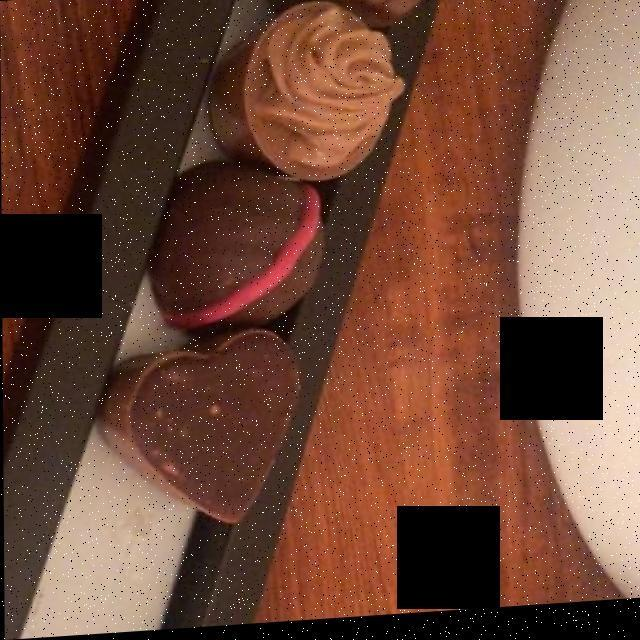nuts: (119, 2, 397, 503)
